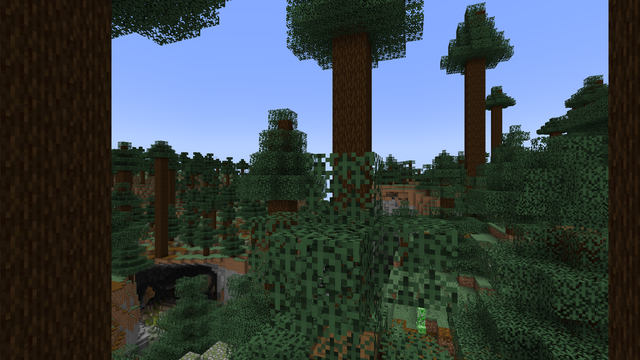creepers: (416, 307, 425, 333)
